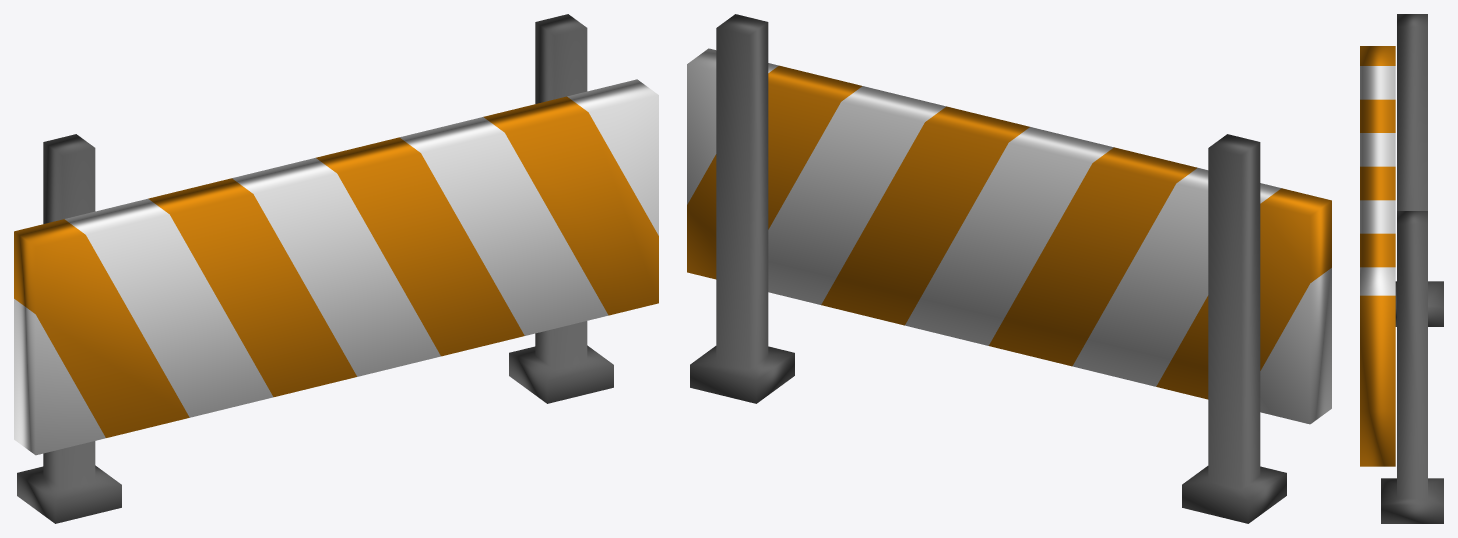
The model's file is traffic fence.fbx.
3 views of the same model, side by side, from view 1: azimuth 30°, elevation 25°; view 2: azimuth 150°, elevation 25°; view 3: azimuth 270°, elevation 25° (orthographic). The views are drawn at different scales.
Visible parts, largest first — view 1: Circle.001, Circle.002; view 2: Circle.001, Circle.002; view 3: Circle.002, Circle.001.
Boxes of the visible parts, left/top/right/bottom form: Circle.001: left=14, top=79, right=658, bottom=455; Circle.002: left=17, top=14, right=613, bottom=523; Circle.001: left=687, top=48, right=1331, bottom=424; Circle.002: left=690, top=14, right=1286, bottom=523; Circle.002: left=1381, top=14, right=1443, bottom=523; Circle.001: left=1360, top=46, right=1395, bottom=466.
Bounding box in the file's own units: 626 × 343 × 89.04.
